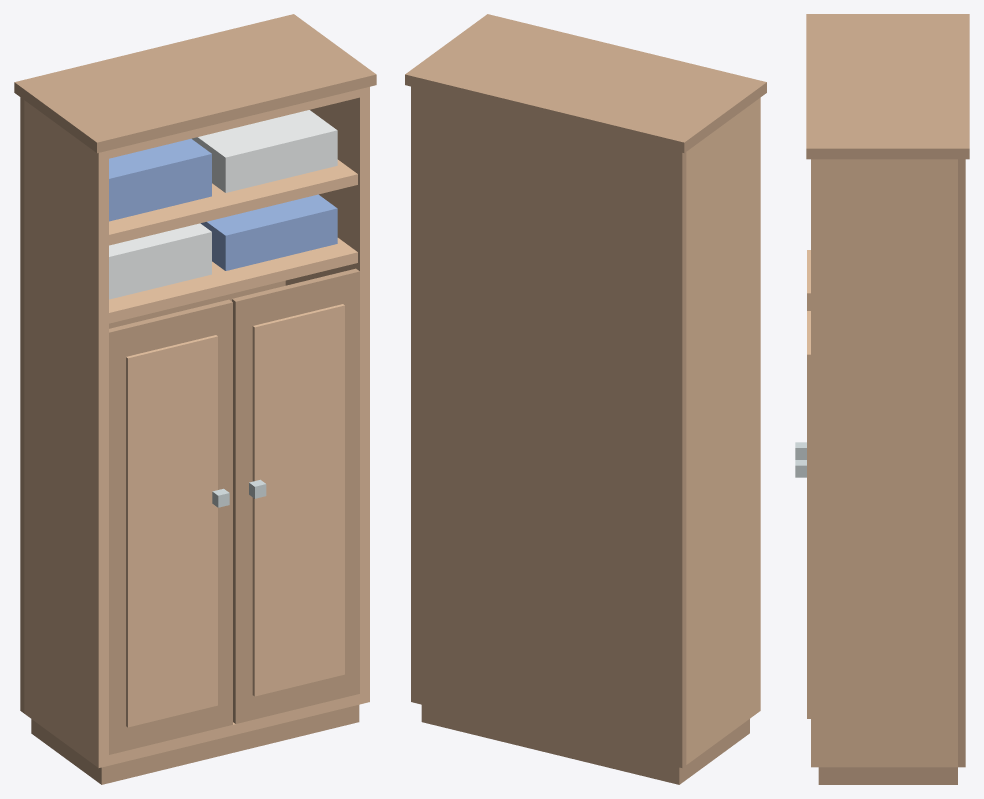
The model's file is linenCupboard.glb.
3 renders of one model, left to right at view 1: azimuth 30°, elevation 25°; view 2: azimuth 150°, elevation 25°; view 3: azimuth 270°, elevation 25°, orthographic.
Visible parts, largest first — view 1: linenCupboard; view 2: linenCupboard; view 3: linenCupboard.
Part boxes in pixels (x1,y1,x2,y2): linenCupboard: (14, 14, 376, 784); linenCupboard: (405, 14, 766, 784); linenCupboard: (795, 14, 969, 784).
Size of the model in its own units: 0.412 by 0.915 by 0.225.
